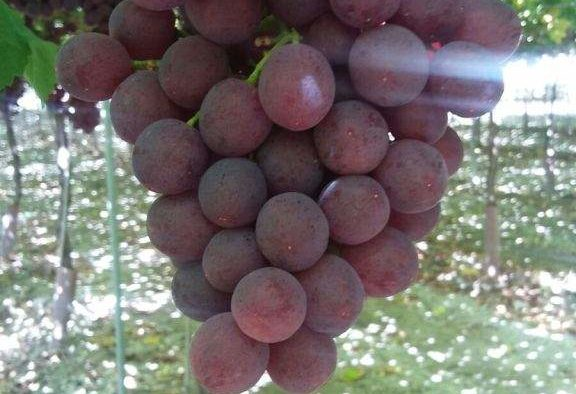Red Grapes: (68, 1, 513, 378)
